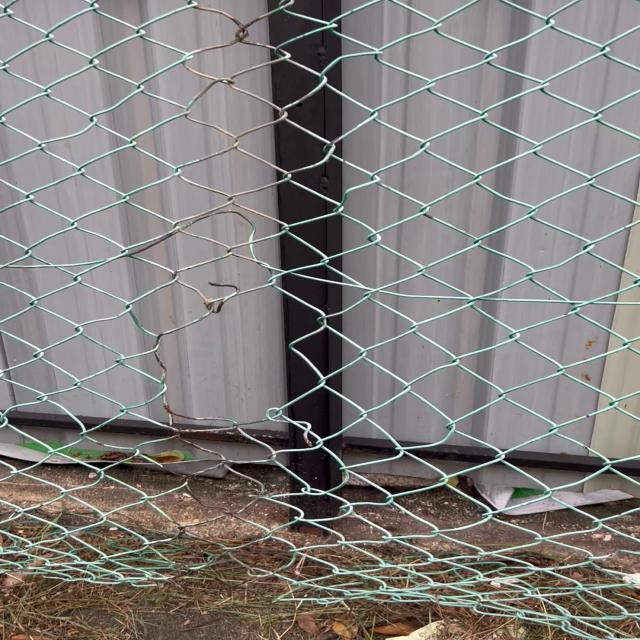fence line: (138, 281, 337, 439)
